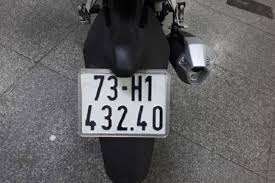number-plate: (79, 70, 167, 135)
